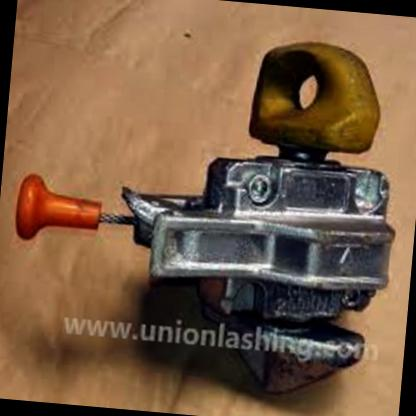Twistlock: (2, 13, 414, 406)
